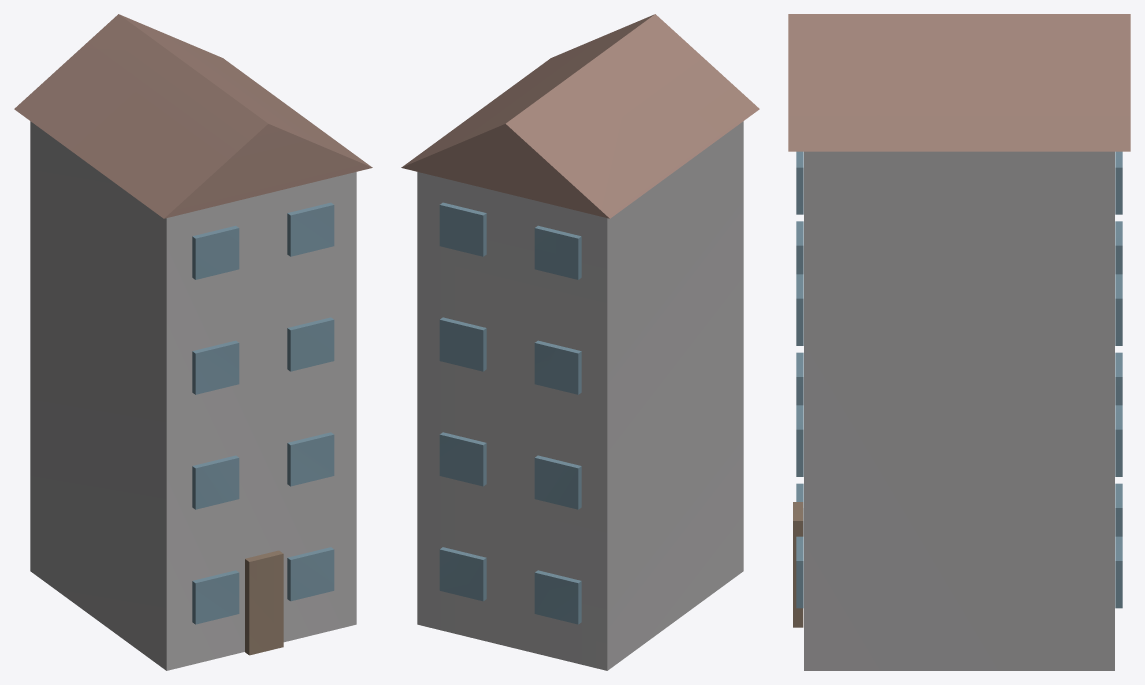
Rendered from townhouse-05.glb.
3 views of the same model, side by side, from view 1: azimuth 30°, elevation 25°; view 2: azimuth 150°, elevation 25°; view 3: azimuth 270°, elevation 25° (orthographic). The views are drawn at different scales.
Parts seen in each view (by area): view 1: world; view 2: world; view 3: world.
Part boxes in pixels (bbox=[...]): world: bbox=[14, 14, 372, 670]; world: bbox=[401, 14, 759, 670]; world: bbox=[788, 14, 1130, 670].
Bounding box in the file's own units: 0.9368 × 2.27 × 1.16.
